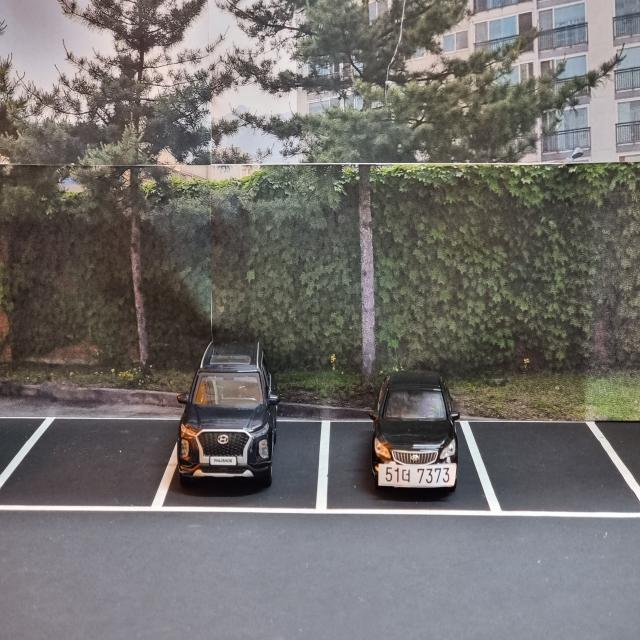empty: (456, 413, 640, 520), (5, 414, 178, 515)
occupied: (178, 342, 284, 484), (366, 364, 460, 497)
